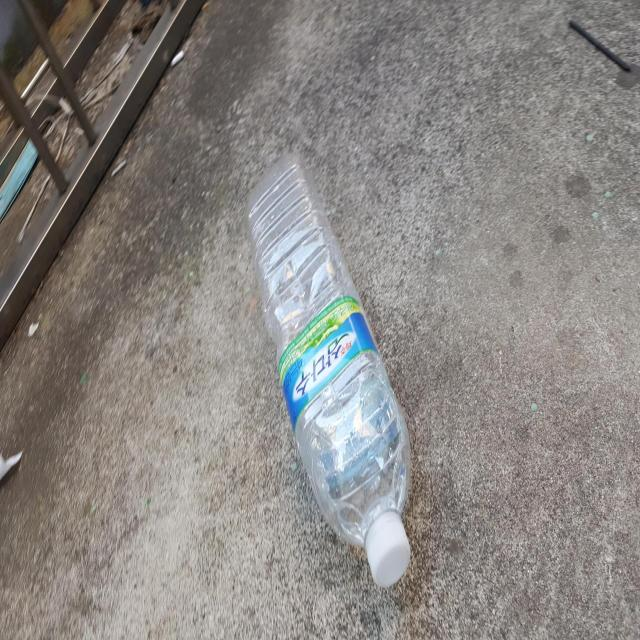plastic: (246, 153, 411, 587)
